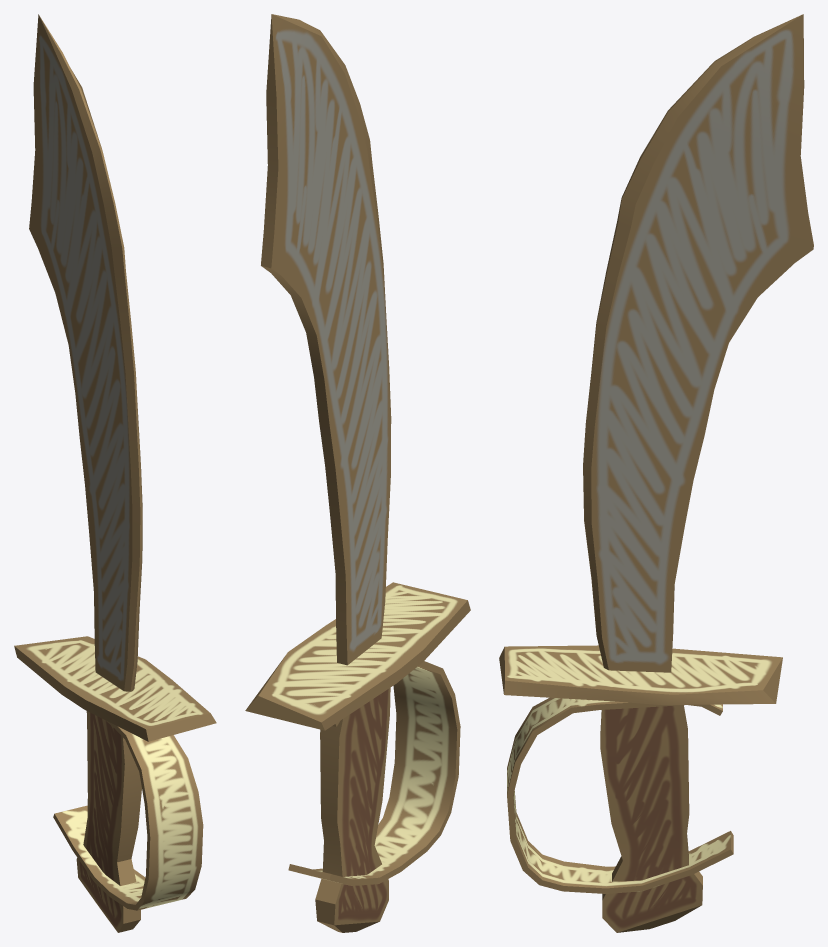
The model's file is cutlass.glb.
3 renders of one model, left to right at view 1: azimuth 30°, elevation 25°; view 2: azimuth 150°, elevation 25°; view 3: azimuth 270°, elevation 25°, orthographic. The views are drawn at different scales.
Visible parts, largest first — view 1: Cube; view 2: Cube; view 3: Cube.
Part boxes in pixels (x1,y1,x2,y2): Cube: (14,14,216,932); Cube: (245,14,470,932); Cube: (499,14,813,932).
Size of the model in its own units: 0.3591 by 3.28 by 1.02.
1 material, 1 textured.
